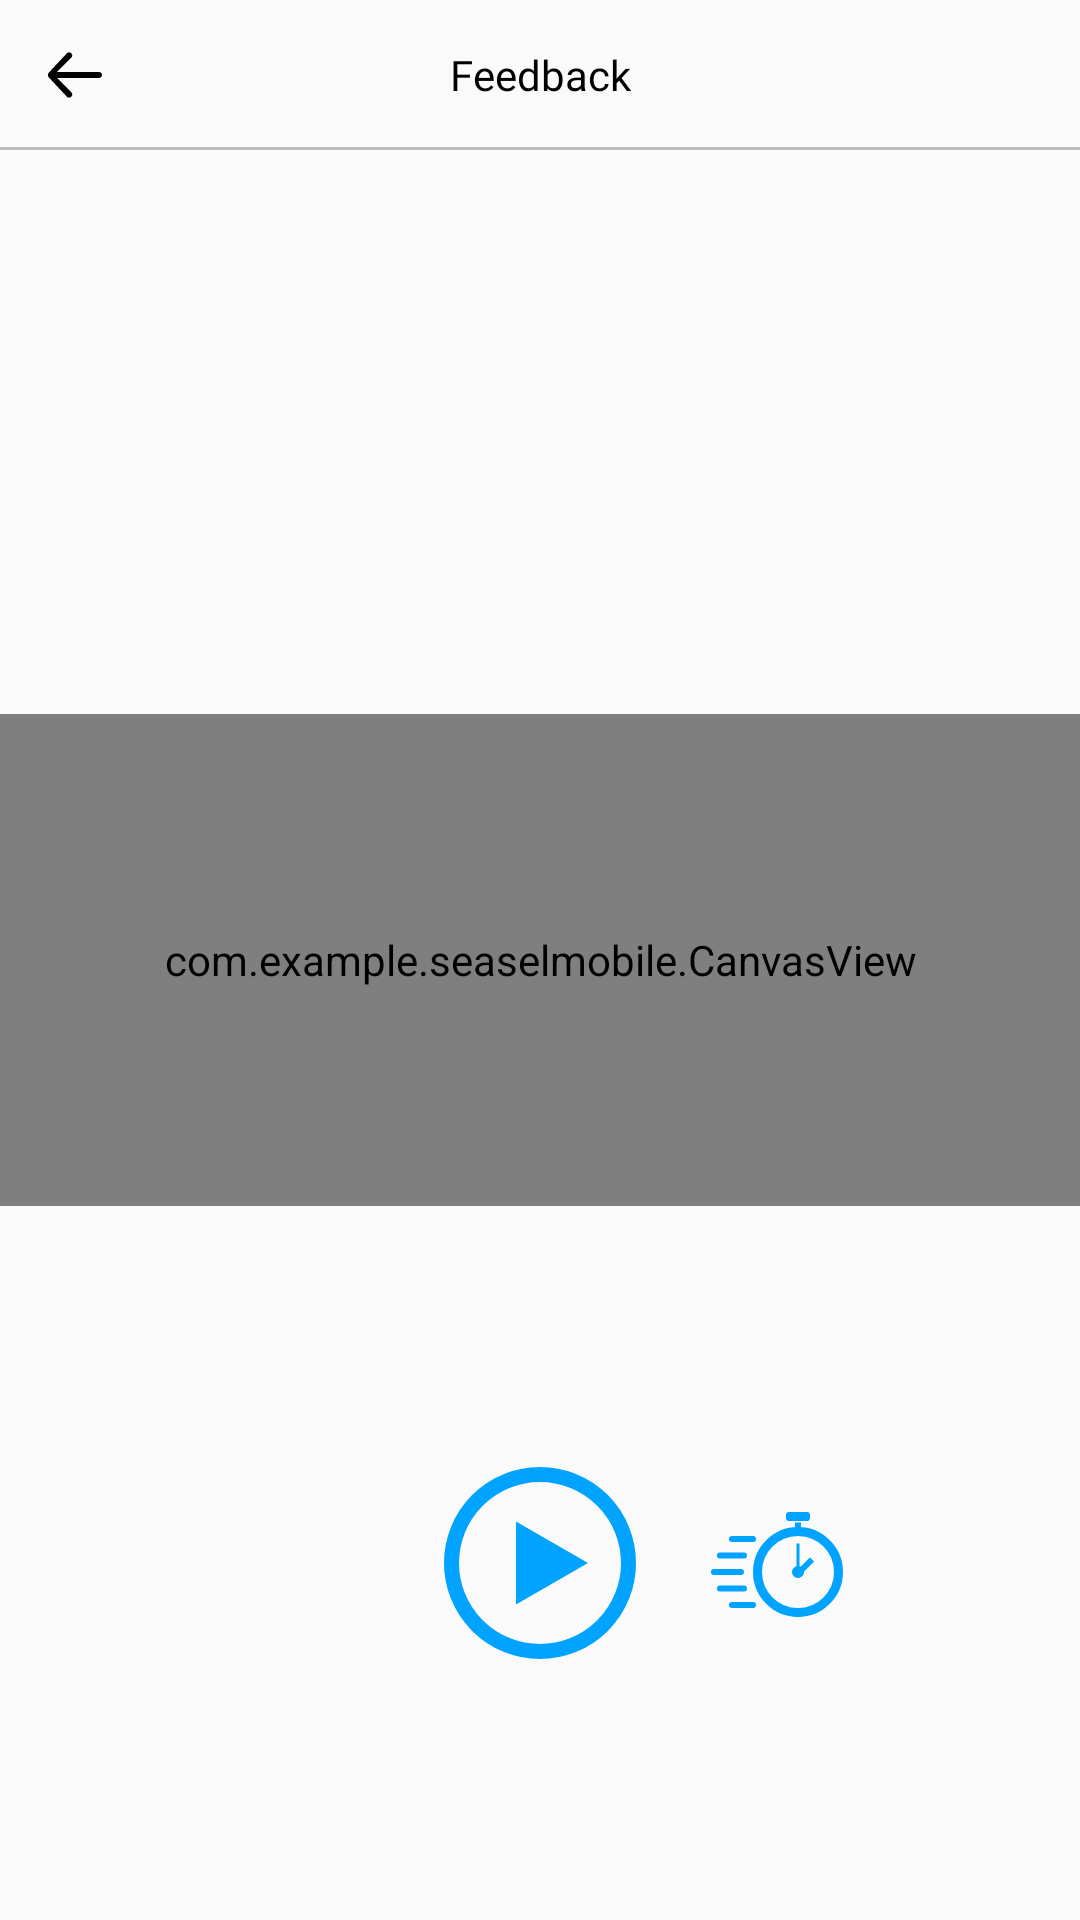

Screen size 1080 x 1920. Icon name, then its box in pixels as (x1, y1, x2, y2):
play: (444, 1467, 636, 1659)
speed: (711, 1512, 843, 1617)
